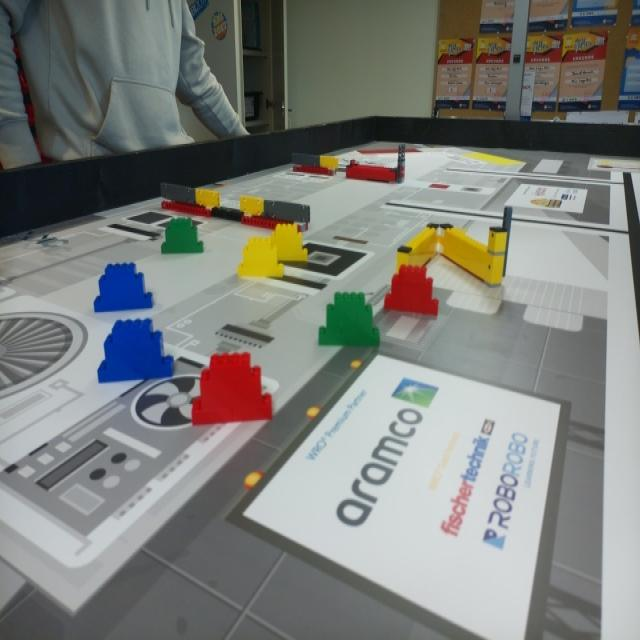blau: (96, 321, 175, 383), (94, 263, 152, 313)
gruen: (315, 292, 378, 348), (162, 219, 204, 255)
rot: (191, 356, 271, 424), (384, 265, 438, 316)
yellow: (239, 238, 283, 280), (271, 225, 305, 259)
